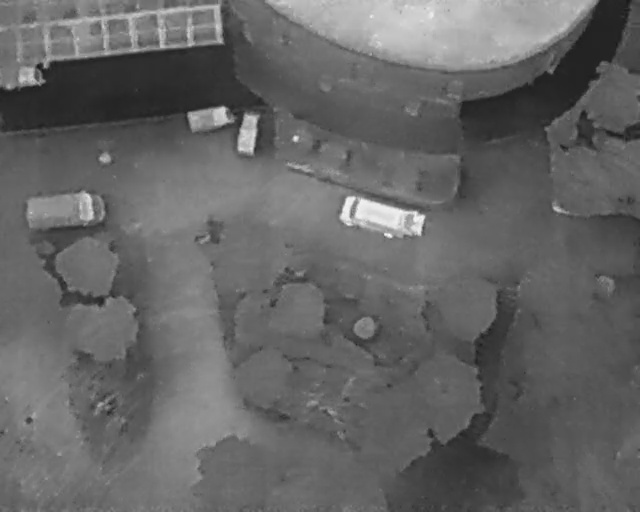Car: (337, 191, 428, 245), (24, 189, 108, 231), (186, 101, 239, 134), (0, 67, 48, 90), (236, 109, 259, 155)
